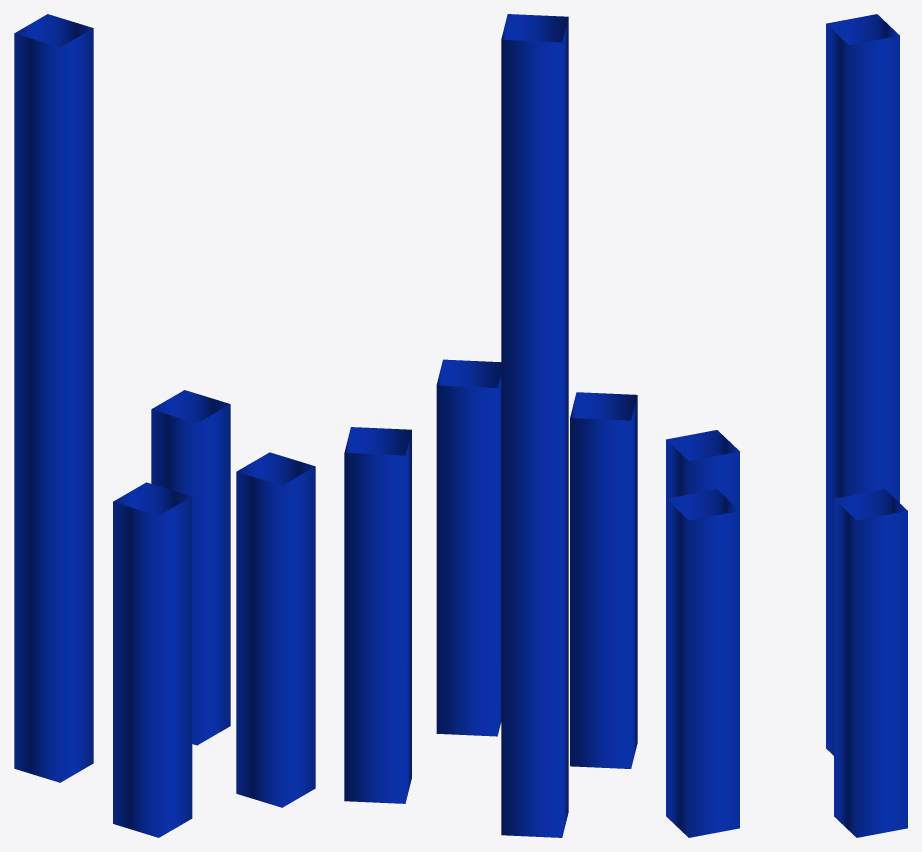
The picture shows the model from 3 angles, left to right: view 1: azimuth 30°, elevation 25°; view 2: azimuth 150°, elevation 25°; view 3: azimuth 270°, elevation 25°; orthographic projection. The views are drawn at different scales.
Parts seen in each view (by area): view 1: for bblneder; view 2: for bblneder; view 3: for bblneder.
Part boxes in pixels (bbox=[...]): for bblneder: bbox=[14, 14, 315, 837]; for bblneder: bbox=[344, 14, 637, 837]; for bblneder: bbox=[666, 14, 907, 837].
Bounding box in the file's own units: 2.51 × 8.58 × 2.59.
